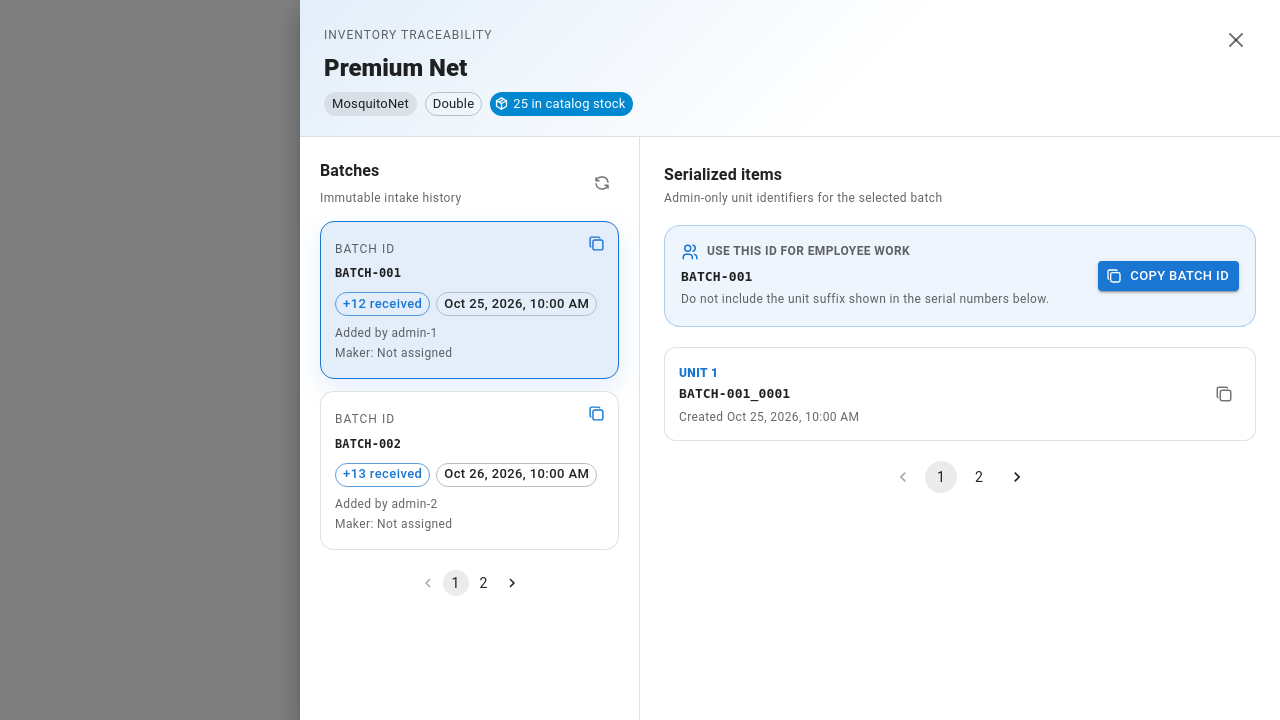
Test case: InventoryTraceability › loads batches, selects one, paginates items and copies an admin-only serial
The width and height of the screenshot is (1280, 720).
Expected: the heading "Premium Net" is shown, [324, 54, 467, 82]
Expected: the text "BATCH-001_0001" is shown, [679, 386, 790, 401]
Click the button named "Copy batch ID BATCH-001" at (596, 243), box [583, 230, 610, 257]
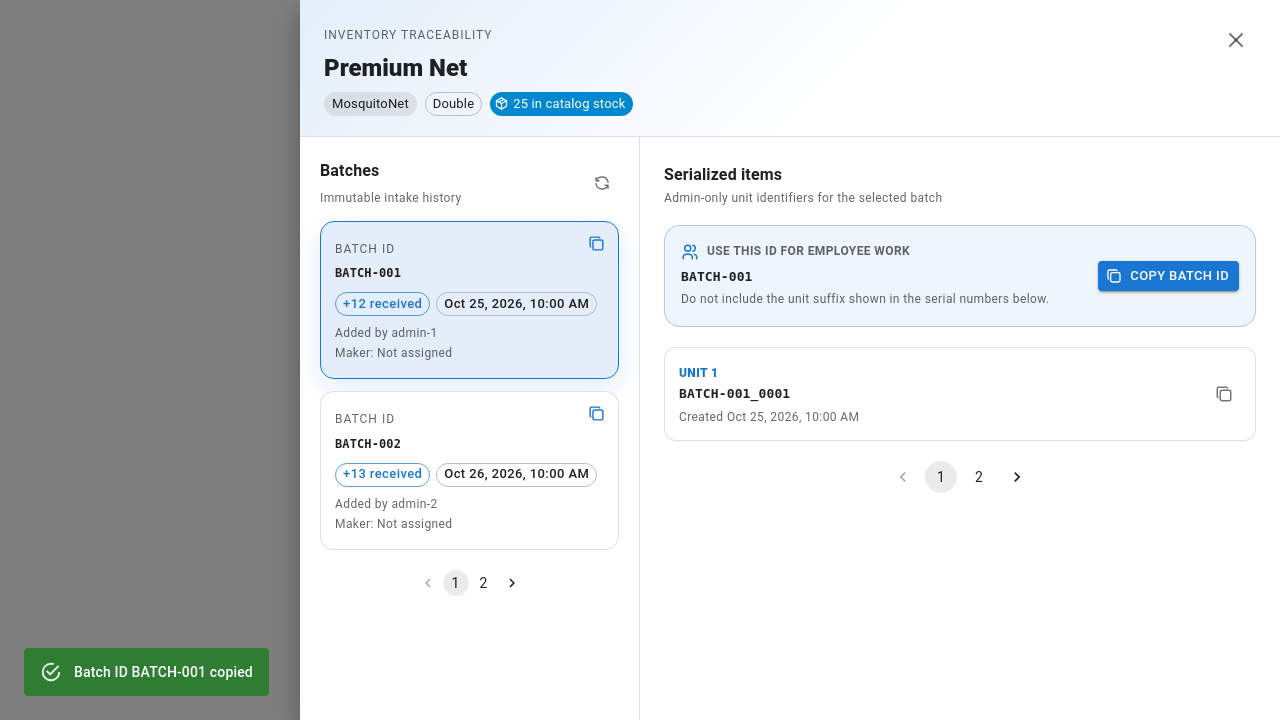
Result: the text "Batch ID BATCH-001 copied" is shown at [74, 664, 253, 680]
Click the list item with aria-label "Select batch BATCH-002" at (470, 470), box [320, 391, 619, 550]
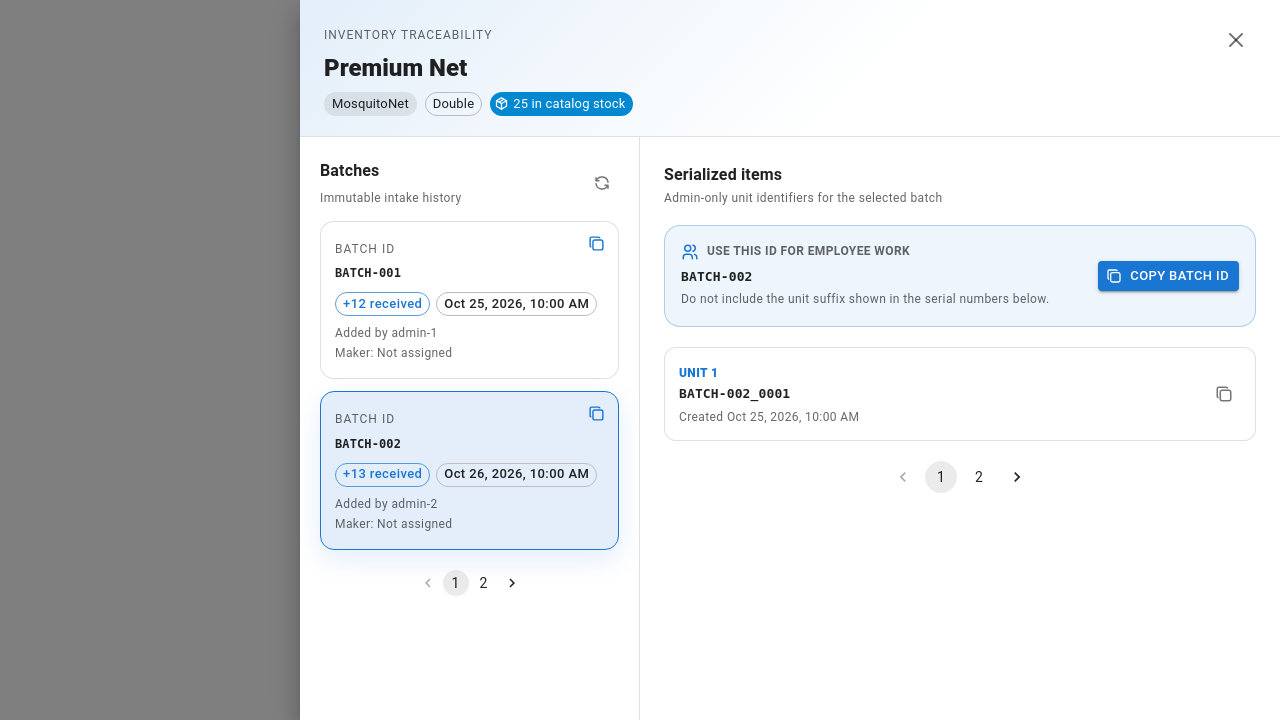
Result: the text "BATCH-002_0001" is shown at [679, 386, 790, 401]
Click the button named "Go to page 2" at (979, 477), box [963, 461, 995, 493]
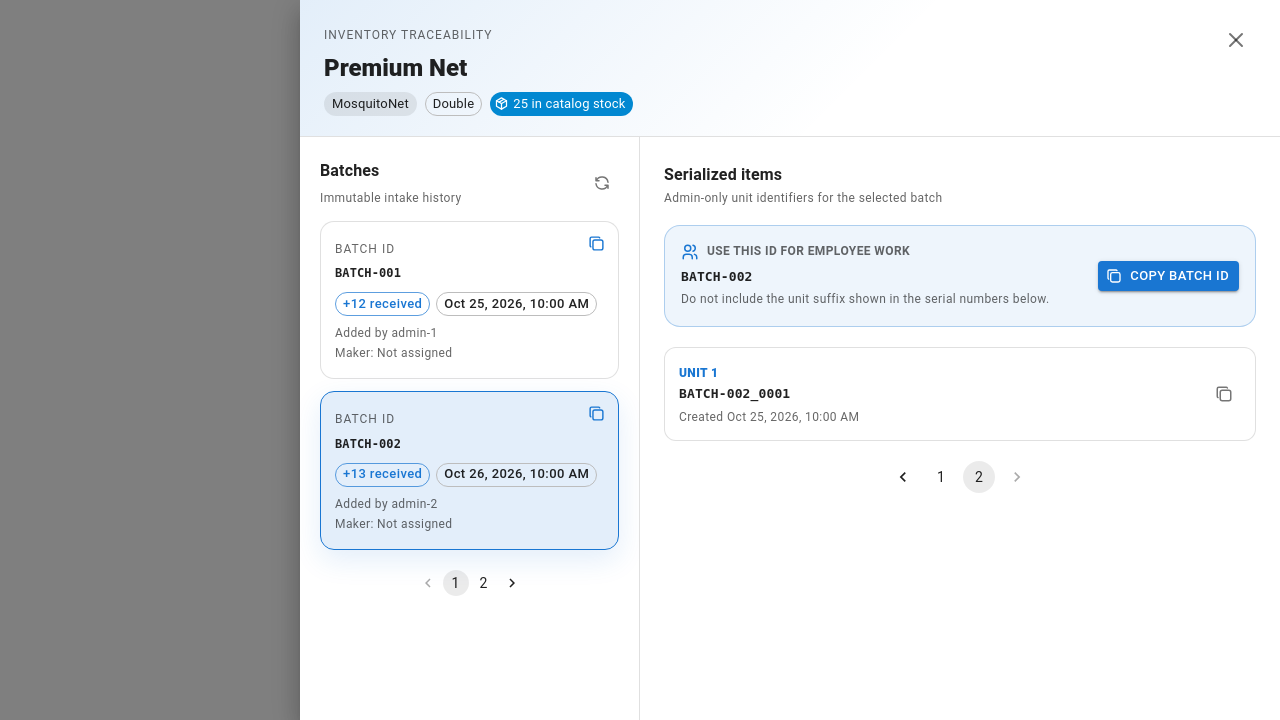
Click the button named "Copy serial BATCH-002_0001" at (1224, 394), box [1207, 377, 1241, 411]
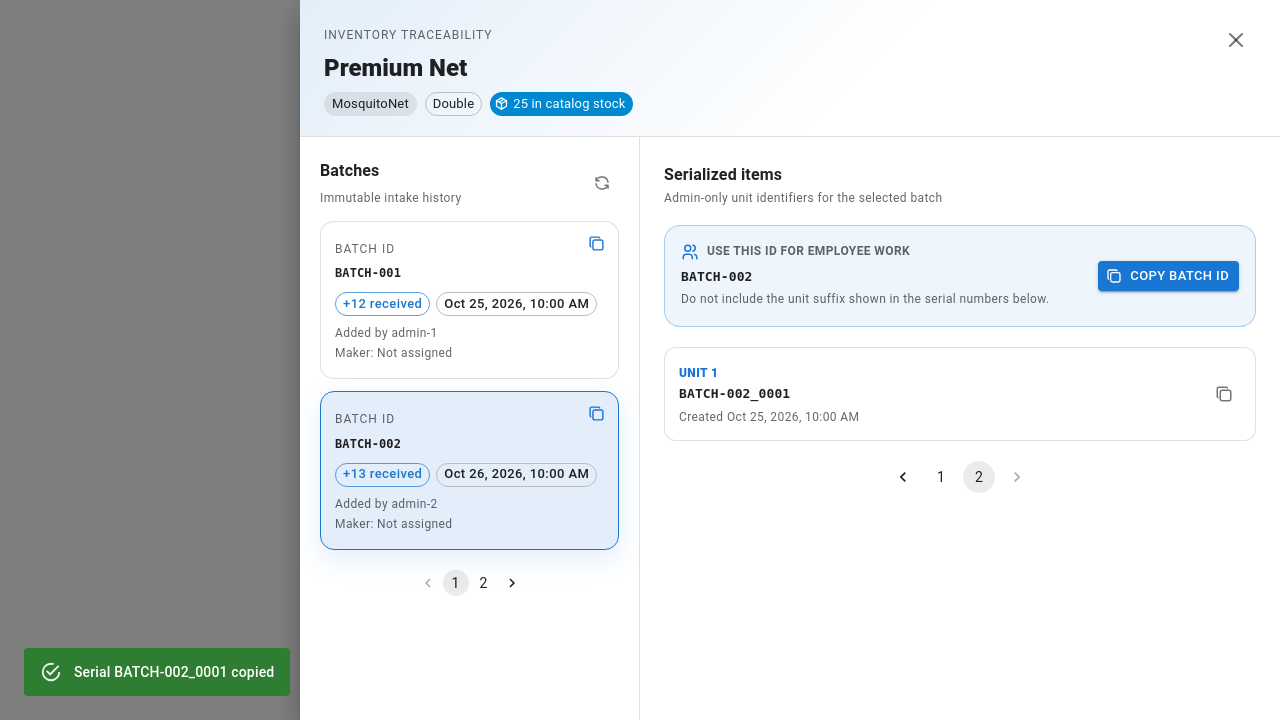
Result: the text "Serial BATCH-002_0001 copied" is shown at [74, 664, 274, 680]
